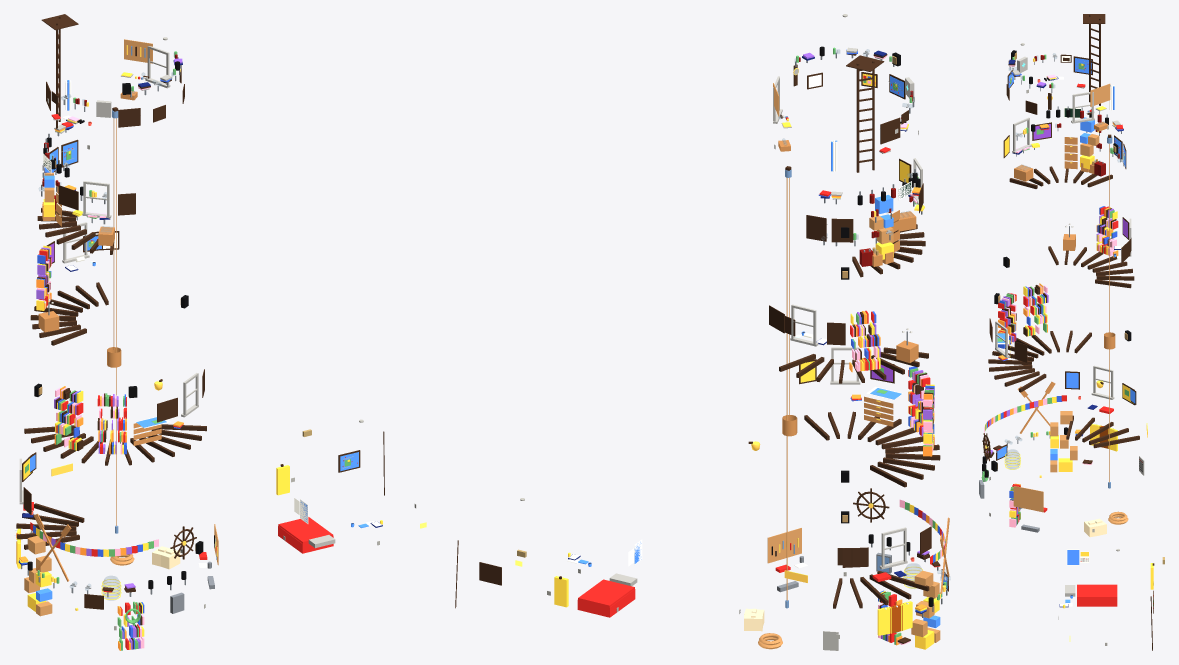
The model's file is SM_Lighthouse_Interior_NoCol.fbx.
3 renders of one model, left to right at view 1: azimuth 30°, elevation 25°; view 2: azimuth 150°, elevation 25°; view 3: azimuth 270°, elevation 25°, orthographic. The views are drawn at different scales.
Visible parts, largest first — view 1: SM_Lighthouse_Interior_NoCol; view 2: SM_Lighthouse_Interior_NoCol; view 3: SM_Lighthouse_Interior_NoCol.
Boxes of the visible parts, x1,y1,x2,y2 form: SM_Lighthouse_Interior_NoCol: (14, 14, 426, 650); SM_Lighthouse_Interior_NoCol: (455, 14, 950, 650); SM_Lighthouse_Interior_NoCol: (979, 14, 1164, 650).
Size of the model in its own units: 13.18 by 18.28 by 6.2.
